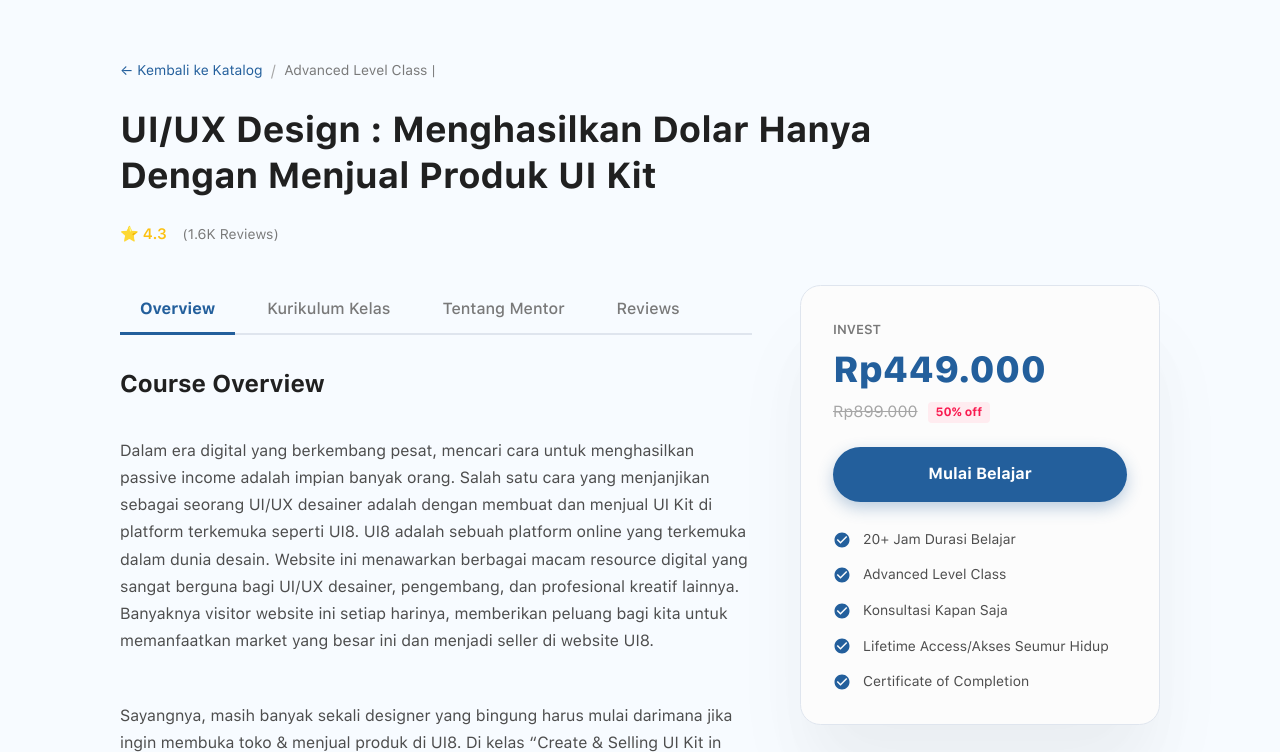
Test: CourseDetailsPage › switches to the Tentang Mentor tab and shows mentor bio
Click the button "Tentang Mentor".
click(504, 310)  # box 422,285 -> 585,335
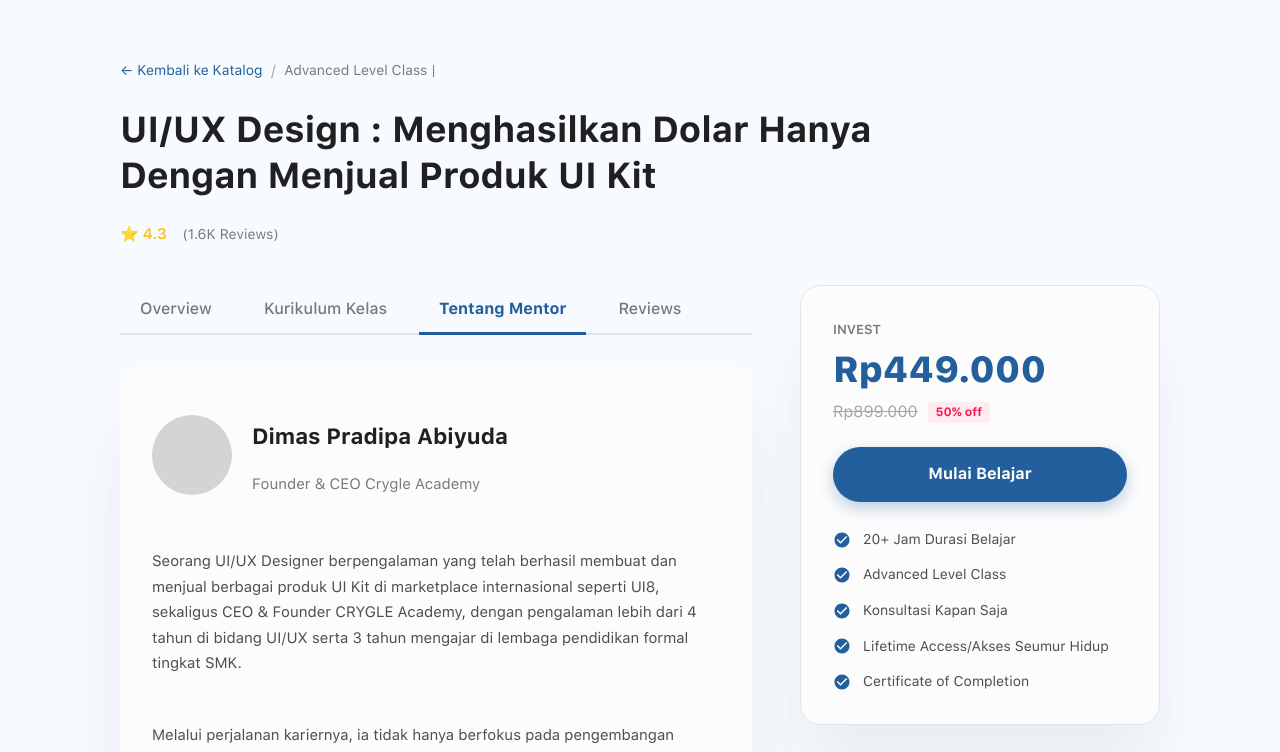
Result: the heading "Dimas Pradipa Abiyuda" is shown at 252,421 -> 508,452
